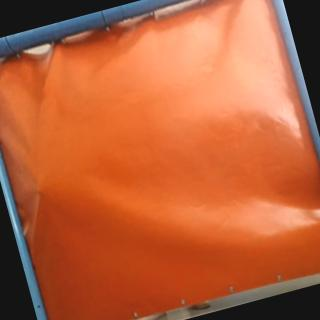Hit-hRxx: (32, 181, 48, 198)
